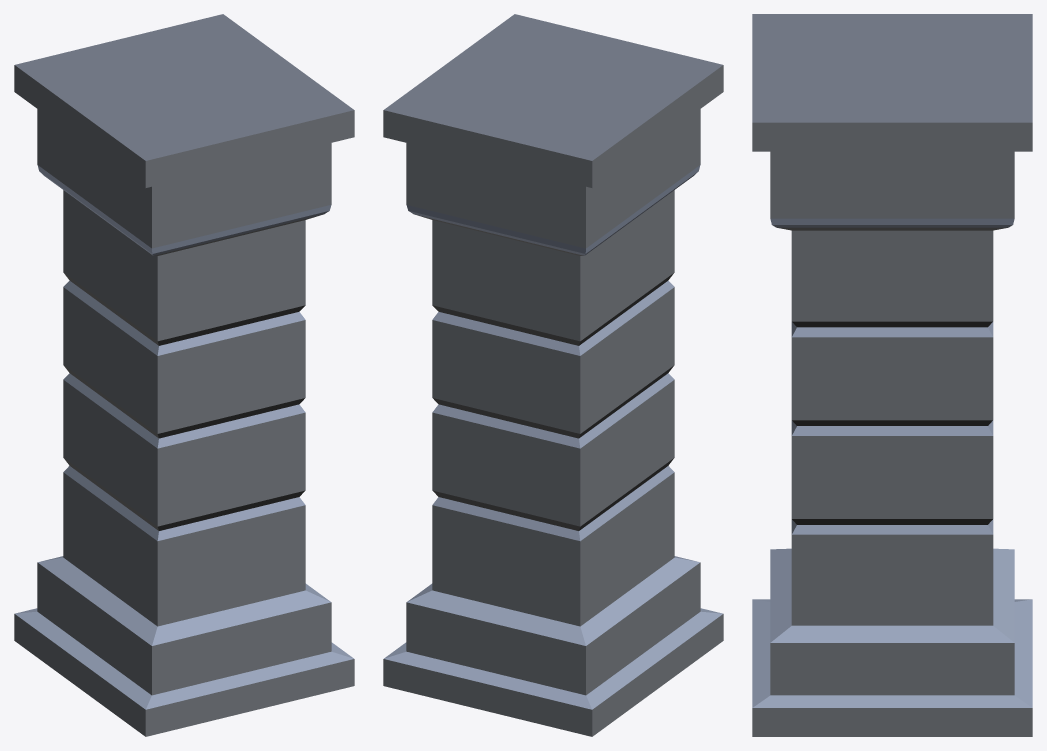
The model's file is Pillar_Center_02.FBX.
The picture shows the model from 3 angles, left to right: view 1: azimuth 30°, elevation 25°; view 2: azimuth 150°, elevation 25°; view 3: azimuth 270°, elevation 25°; orthographic projection. The views are drawn at different scales.
Visible parts, largest first — view 1: Pillar_Center_02; view 2: Pillar_Center_02; view 3: Pillar_Center_02.
Boxes of the visible parts, x1=… form: Pillar_Center_02: x1=14, y1=14, x2=354, y2=736; Pillar_Center_02: x1=383, y1=14, x2=723, y2=736; Pillar_Center_02: x1=752, y1=14, x2=1032, y2=736.
Bounding box in the file's own units: 29.84 × 78.68 × 32.51.
